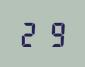nine: (42, 20, 64, 47)
two: (19, 20, 41, 47)
